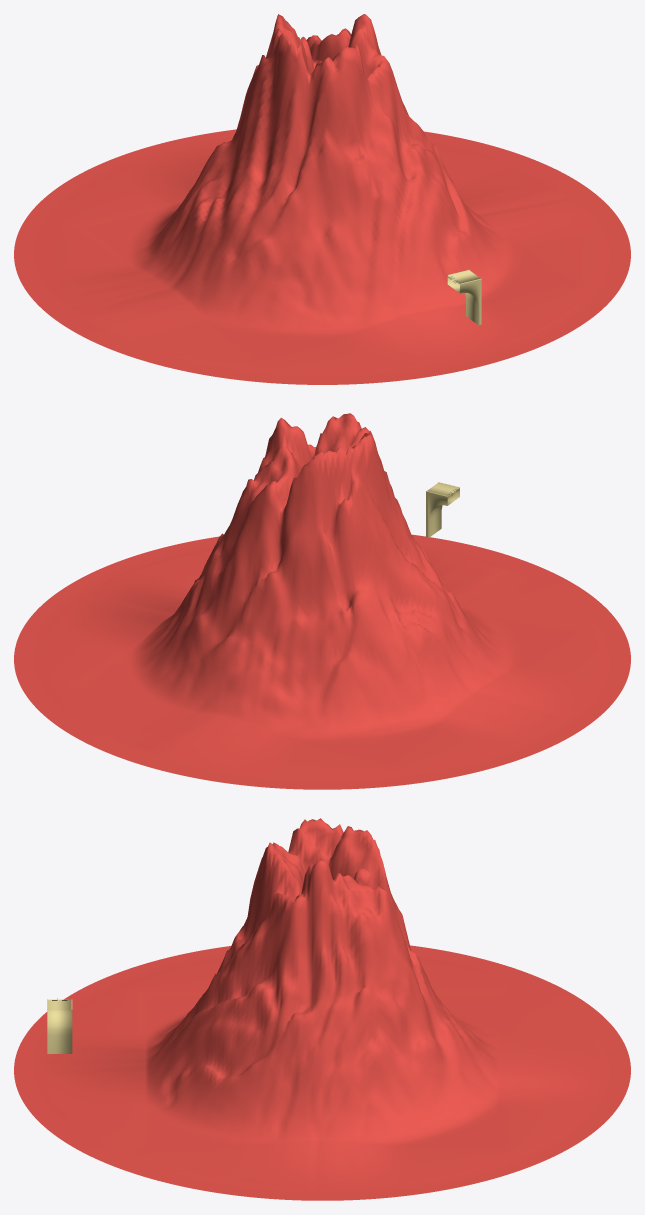
The model's file is Environment.glb.
The picture shows the model from 3 angles, top to bottom: view 1: azimuth 30°, elevation 25°; view 2: azimuth 150°, elevation 25°; view 3: azimuth 270°, elevation 25°; orthographic projection.
Parts seen in each view (by area): view 1: Landscape, Cube; view 2: Landscape, Cube; view 3: Landscape, Cube.
Part boxes in pixels (left/top/right/bottom): Landscape: left=14, top=14, right=630, bottom=384; Cube: left=447, top=269, right=481, bottom=325; Landscape: left=14, top=413, right=630, bottom=789; Cube: left=426, top=482, right=459, bottom=537; Landscape: left=14, top=818, right=630, bottom=1200; Cube: left=47, top=999, right=72, bottom=1053.
Size of the model in its own units: 24.66 by 10.24 by 24.66.
